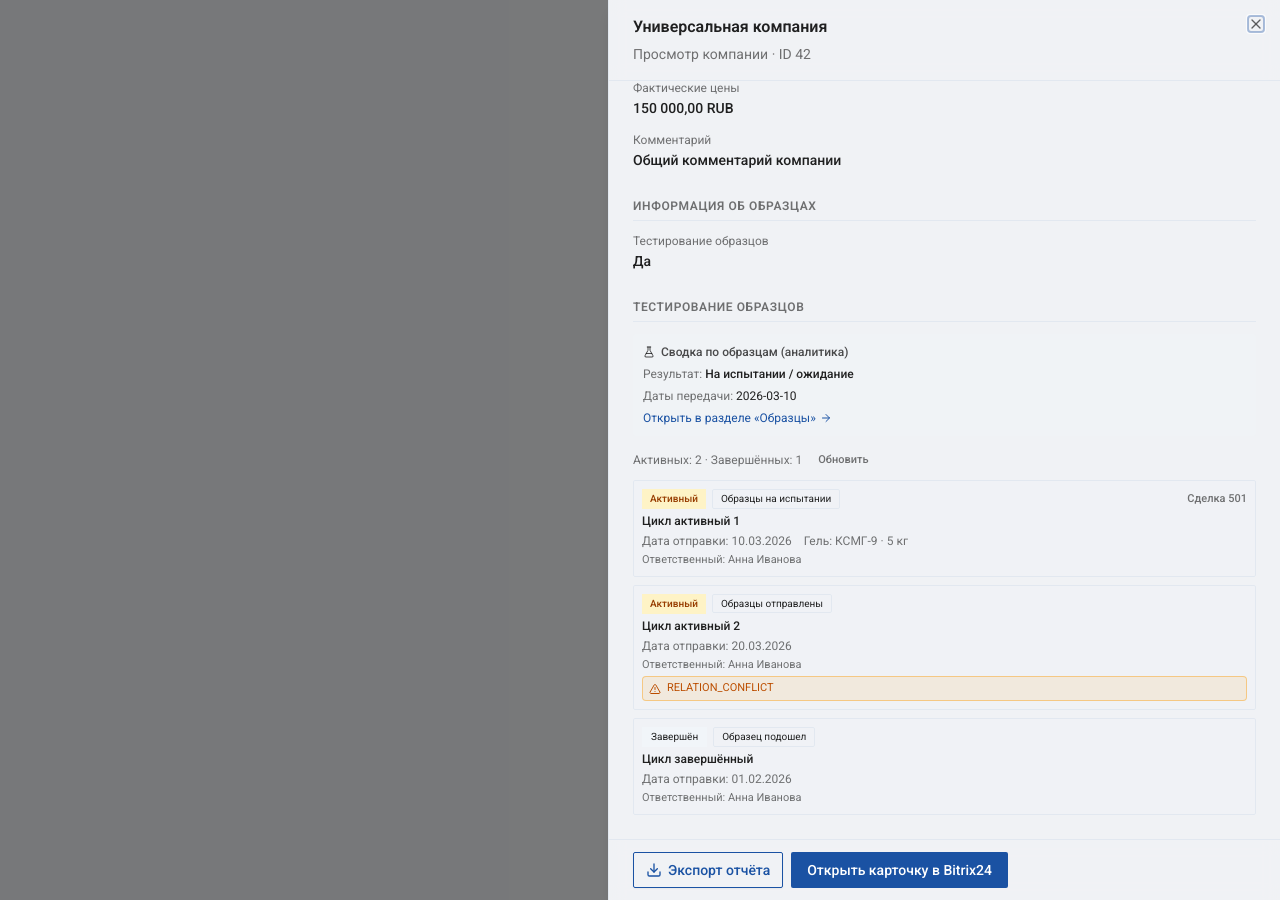
Test: B. Company Smart Process inside the drawer › case B13: explicit retry performs a real request; failed retry preserves prior data with stale disclosure
(page scrolled)
Check: the heading "Универсальная компания" is shown, box 633,17 -> 827,36
Check: the text "Активных: 2 · Завершённых: 1" is shown, box 633,452 -> 802,468
Click the button "Обновить" at [843, 460], box 810,448 -> 876,472
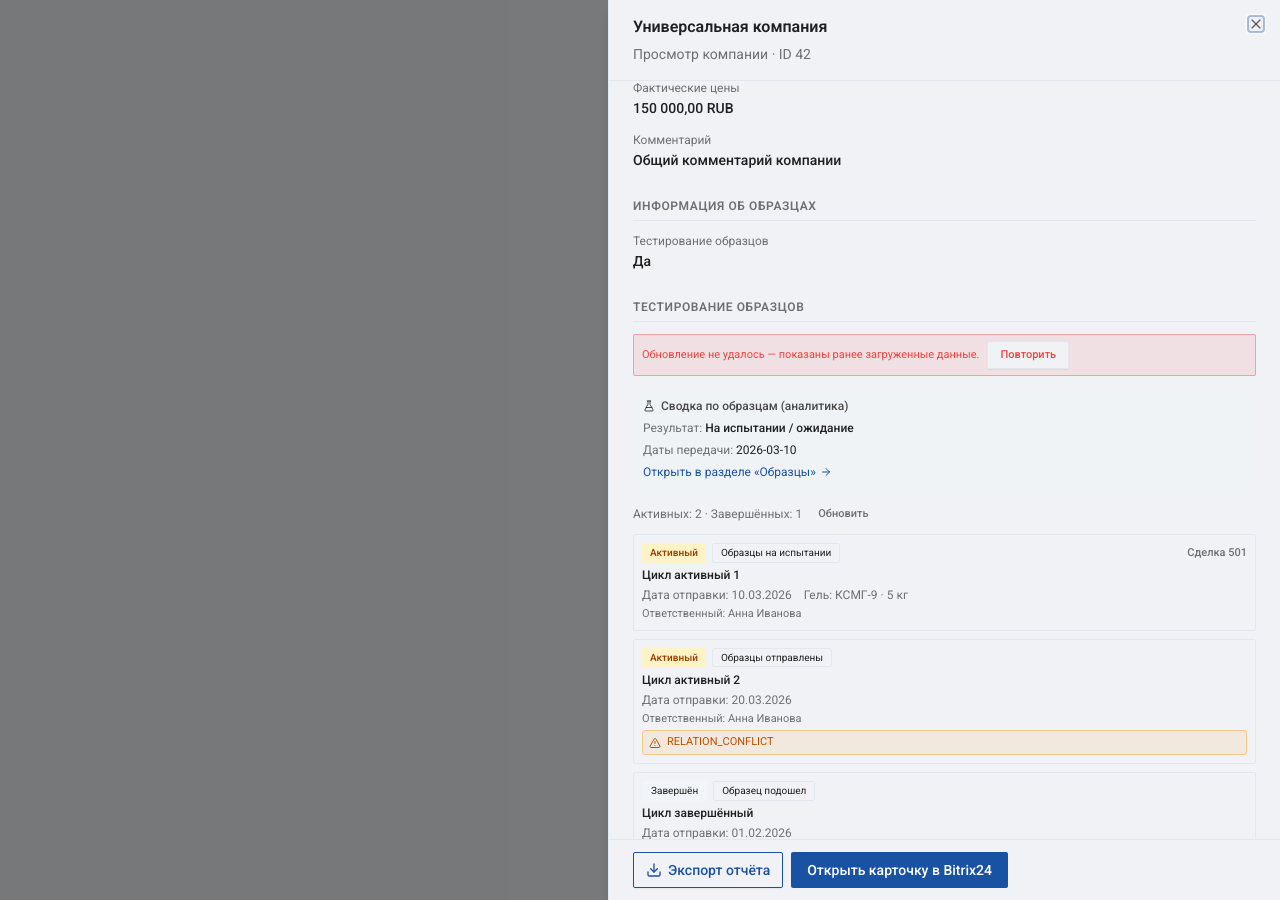
Check: the text "Цикл активный 1" is shown, box 642,568 -> 740,582
Check: the text "Обновление не удалось — показаны ранее загруженные данные." is shown, box 642,348 -> 979,362
